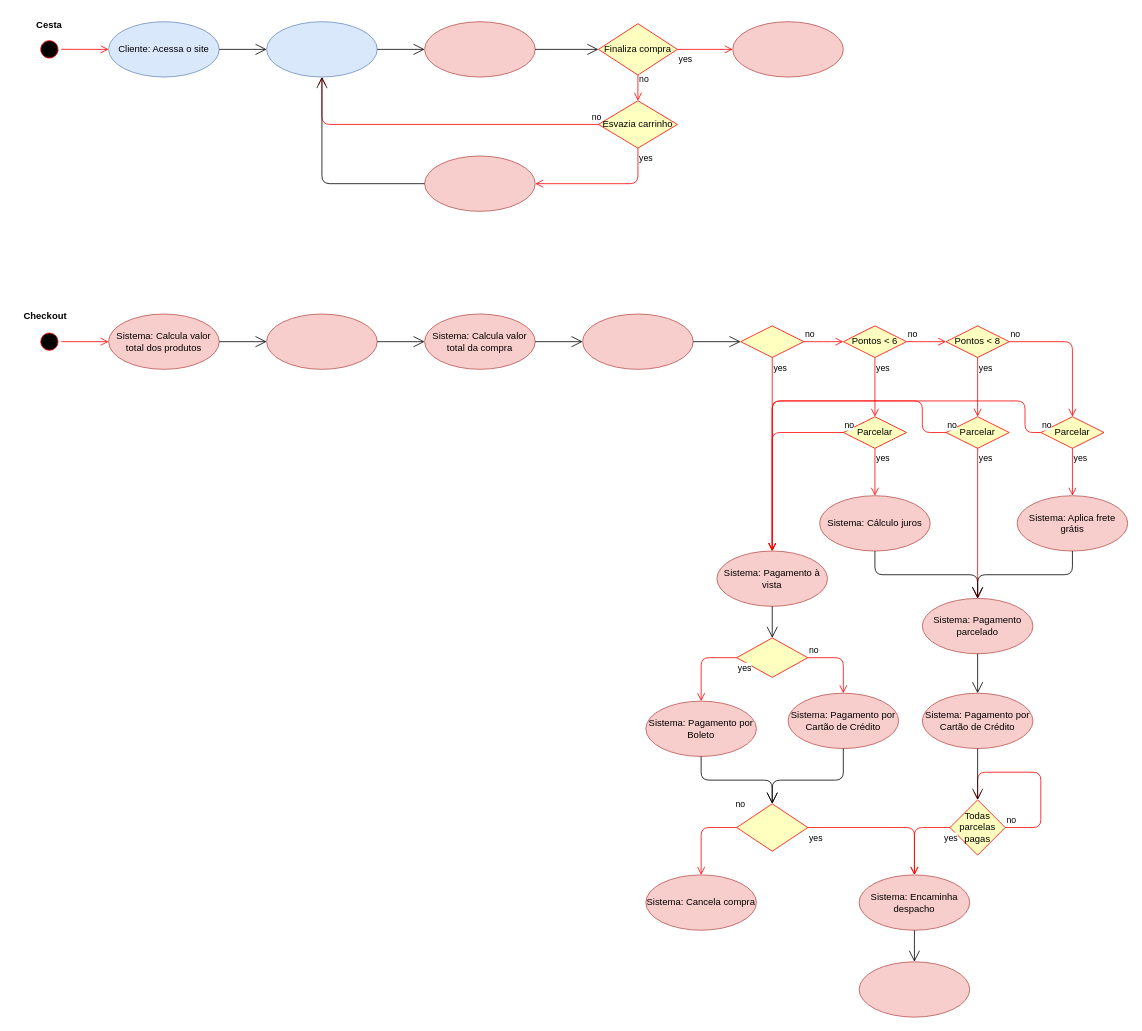
Image size: 1142x1031. Some labels were removed from this diagram. Here are the shapes that lost their labels. From the top down, the centre of each, then its label:
At (x=321, y=49): "Cliente: Adiciona o produtos à cesta".
At (x=479, y=49): "Sistema: Reserva o produto".
At (x=787, y=49): "Sistema: Checkout".
At (x=479, y=183): "Sistema: Cancela reservas".
At (x=321, y=341): "Sistema: Calcula valor do frete".
At (x=637, y=341): "Sistema: Calcula pontuação do cliente".
At (x=772, y=341): "pontos < 4".
At (x=772, y=657): "Pagar por boleto".
At (x=772, y=827): "Pagamento aprovado".
At (x=914, y=989): "Sistema: Encerra compra".
